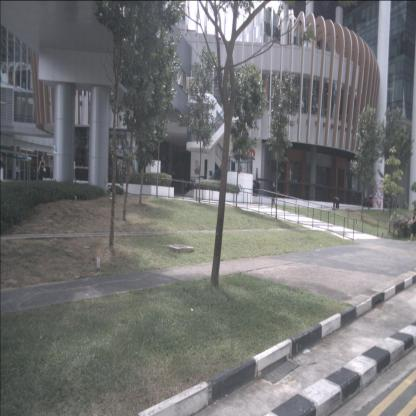human-pedestrian-adult: (408, 208, 416, 244), (38, 155, 46, 183), (272, 181, 277, 205), (50, 157, 54, 181)
